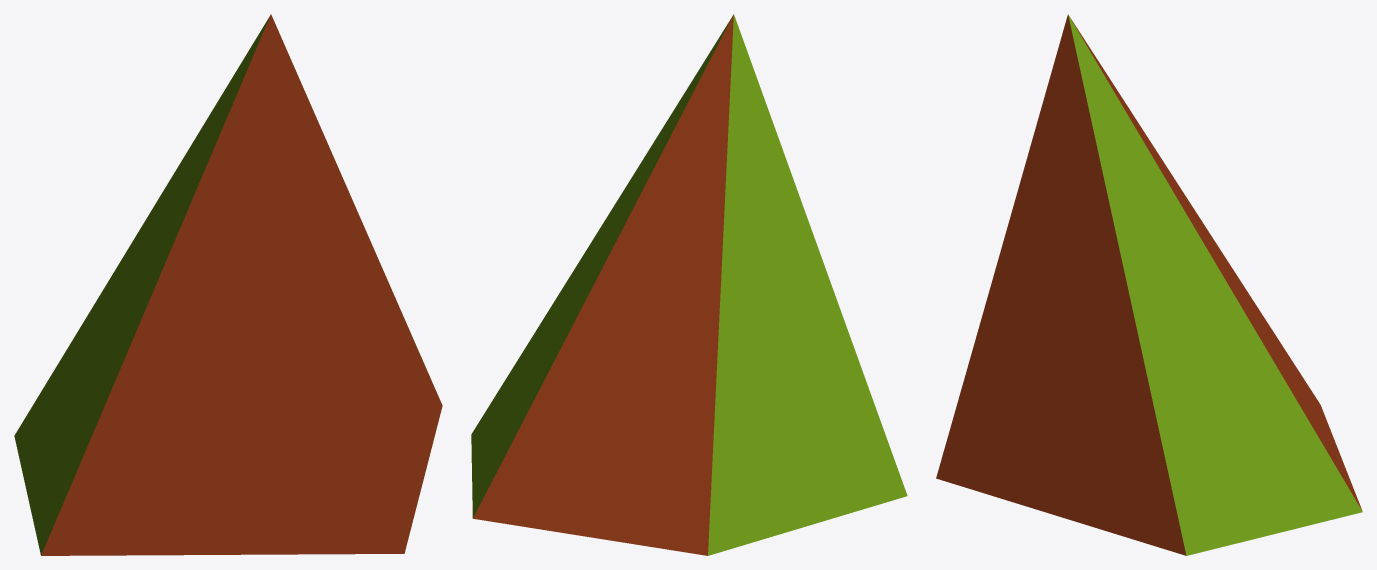
Rendered from Tree2_M2_1_small.fbx.
3 views of the same model, side by side, from view 1: azimuth 30°, elevation 25°; view 2: azimuth 150°, elevation 25°; view 3: azimuth 270°, elevation 25° (orthographic). The views are drawn at different scales.
Visible parts, largest first — view 1: Tree2_M2_1_small; view 2: Tree2_M2_1_small; view 3: Tree2_M2_1_small.
Part boxes in pixels (x1,y1,x2,y2): Tree2_M2_1_small: (14, 14, 442, 555); Tree2_M2_1_small: (471, 14, 907, 555); Tree2_M2_1_small: (936, 14, 1362, 555).
Size of the model in its own units: 47.45 by 49.73 by 43.79.
